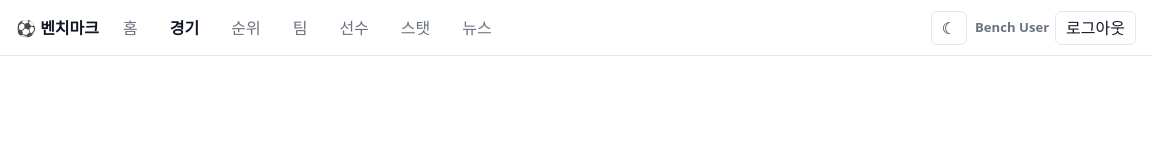
Test: AppHeader › shows logout for signed-in users and clears local auth state
The width and height of the screenshot is (1152, 160).
Expected: the text with test id "auth-profile" reads "Bench User", [975, 18, 1049, 36]
Click the button with test id "auth-logout": (1096, 28) [1055, 10, 1136, 44]
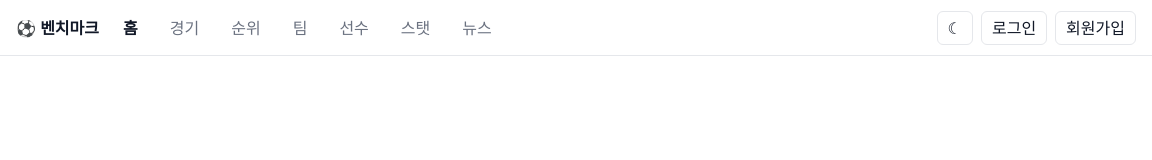
Expected: the link with test id "auth-login" reads "로그인", [981, 10, 1047, 44]
